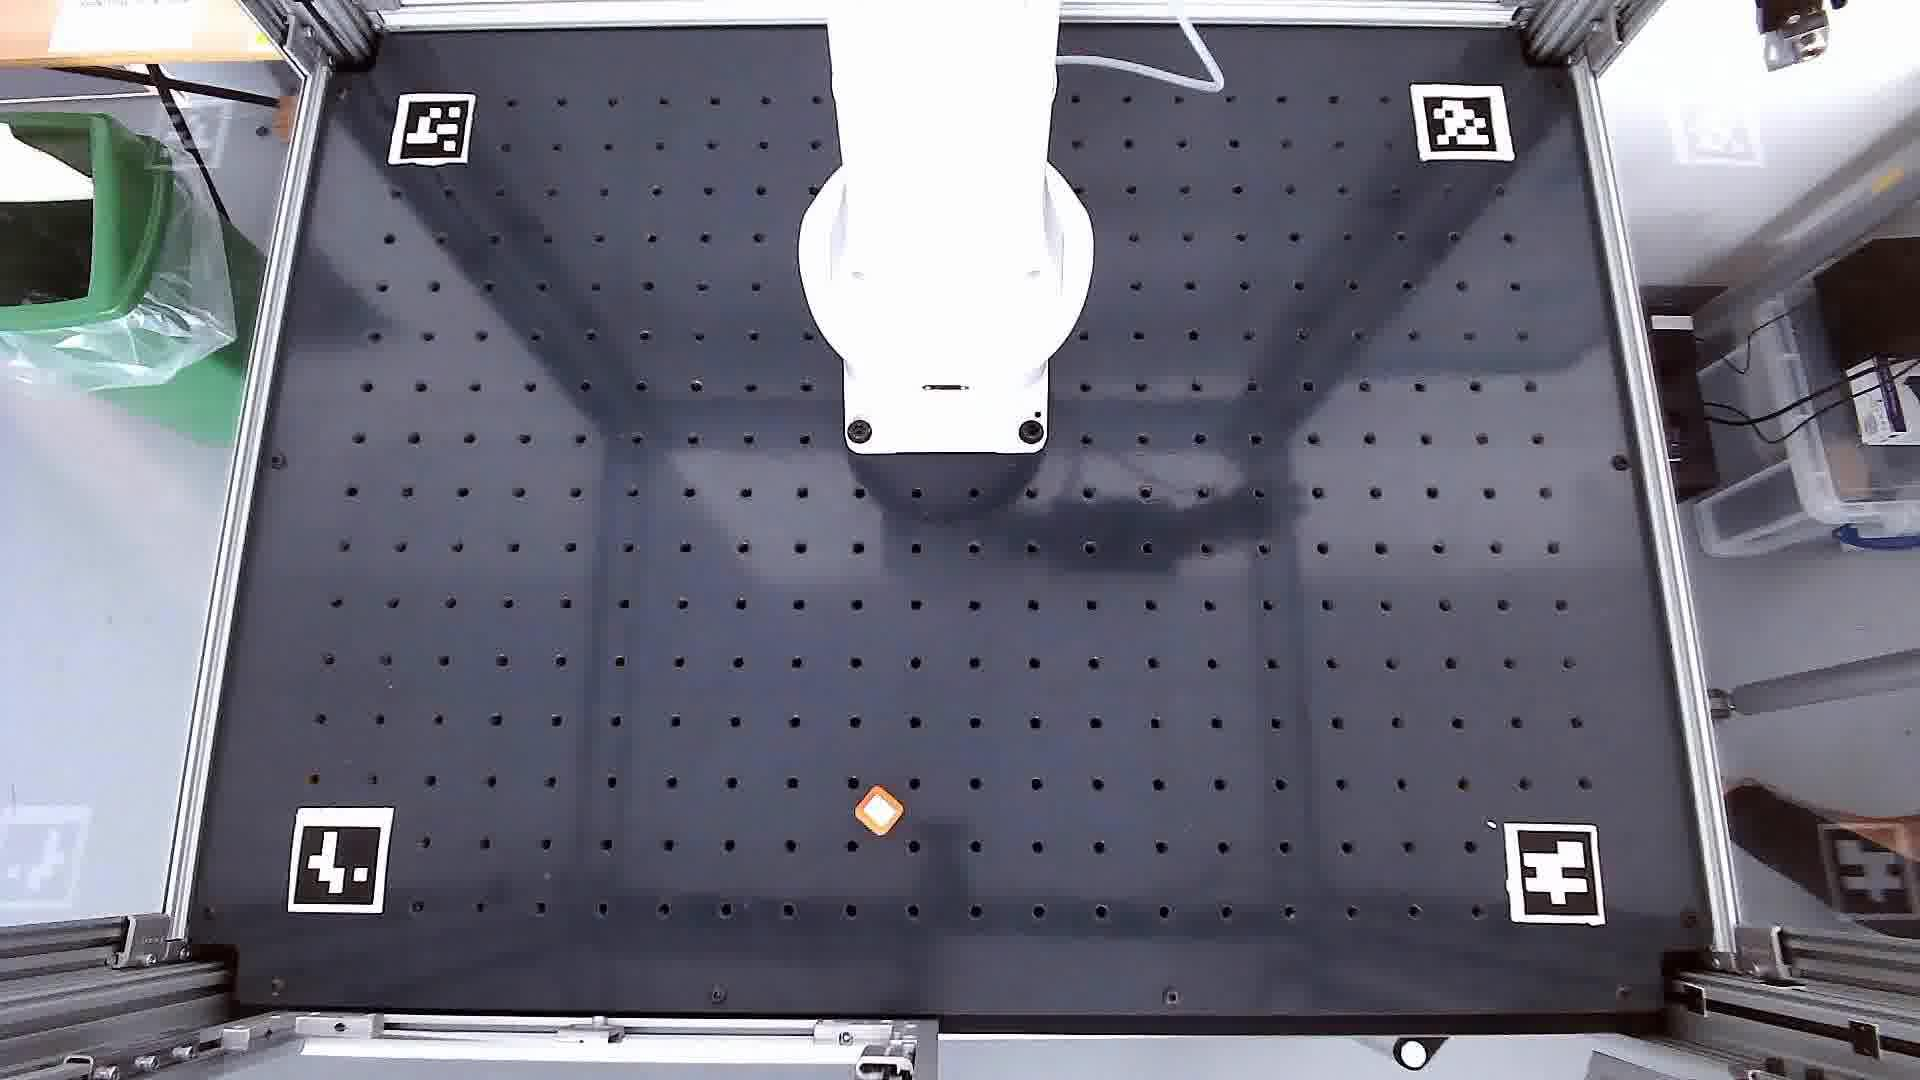sticker: (851, 787, 906, 836)
white: (862, 795, 897, 827)
